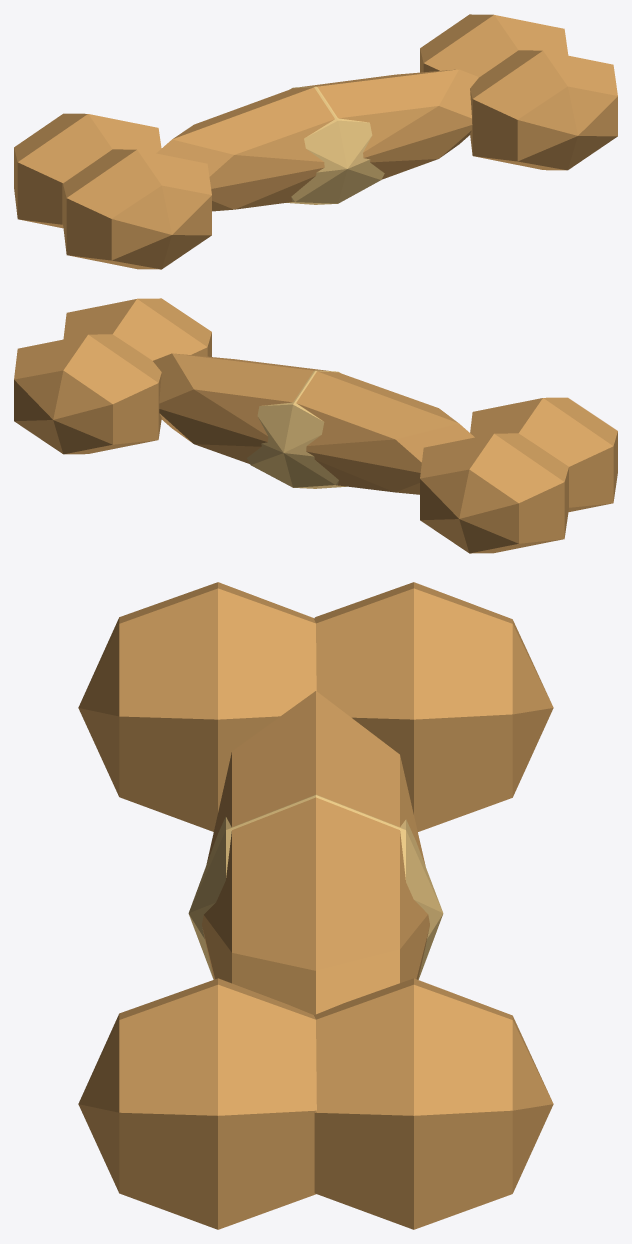
File: chew_toy.glb
3 views of the same model, one above another, from view 1: azimuth 30°, elevation 25°; view 2: azimuth 150°, elevation 25°; view 3: azimuth 270°, elevation 25° (orthographic). The views are drawn at different scales.
Parts seen in each view (by area): view 1: chew_toy; view 2: chew_toy; view 3: chew_toy.
Part boxes in pixels (x1=…): chew_toy: x1=14, y1=14, x2=617, y2=269; chew_toy: x1=14, y1=298, x2=617, y2=553; chew_toy: x1=78, y1=582, x2=553, y2=1229.
Bounding box in the file's own units: 0.1536 × 0.0329 × 0.0578.
